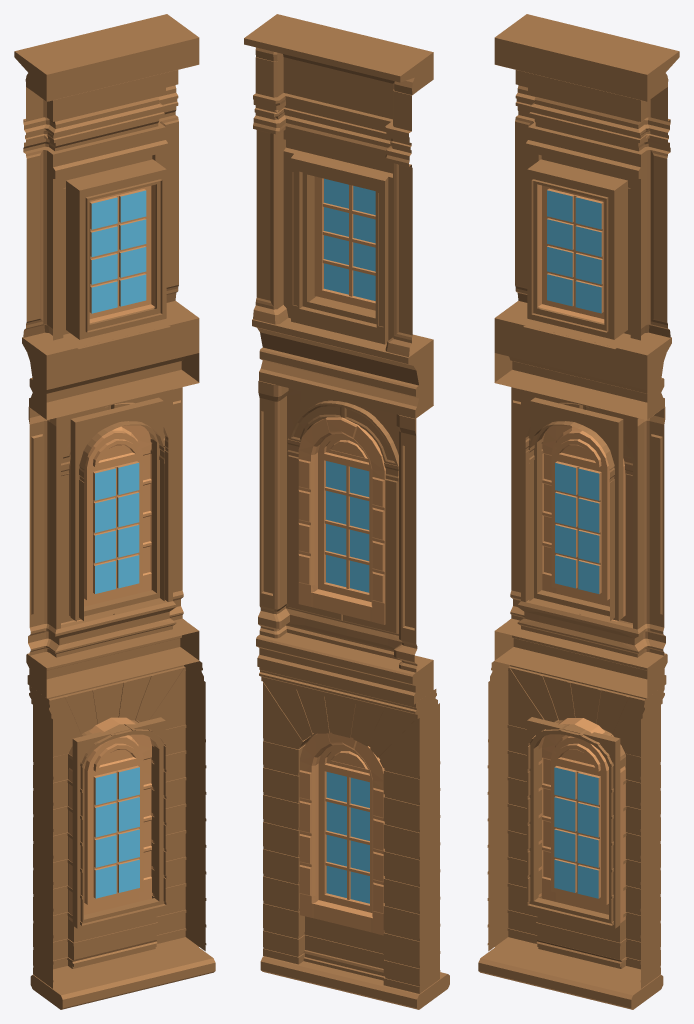
3 views of the same model, side by side, from view 1: azimuth 30°, elevation 25°; view 2: azimuth 150°, elevation 25°; view 3: azimuth 330°, elevation 25° (orthographic). The views are drawn at different scales.
Visible parts, largest first — view 1: Box058; view 2: Box058; view 3: Box058.
Boxes of the visible parts, x1=… form: Box058: x1=14, y1=14, x2=215, y2=1009; Box058: x1=244, y1=14, x2=449, y2=1009; Box058: x1=478, y1=14, x2=679, y2=1009.
Bounding box in the file's own units: 3.23 × 18.63 × 1.77.
